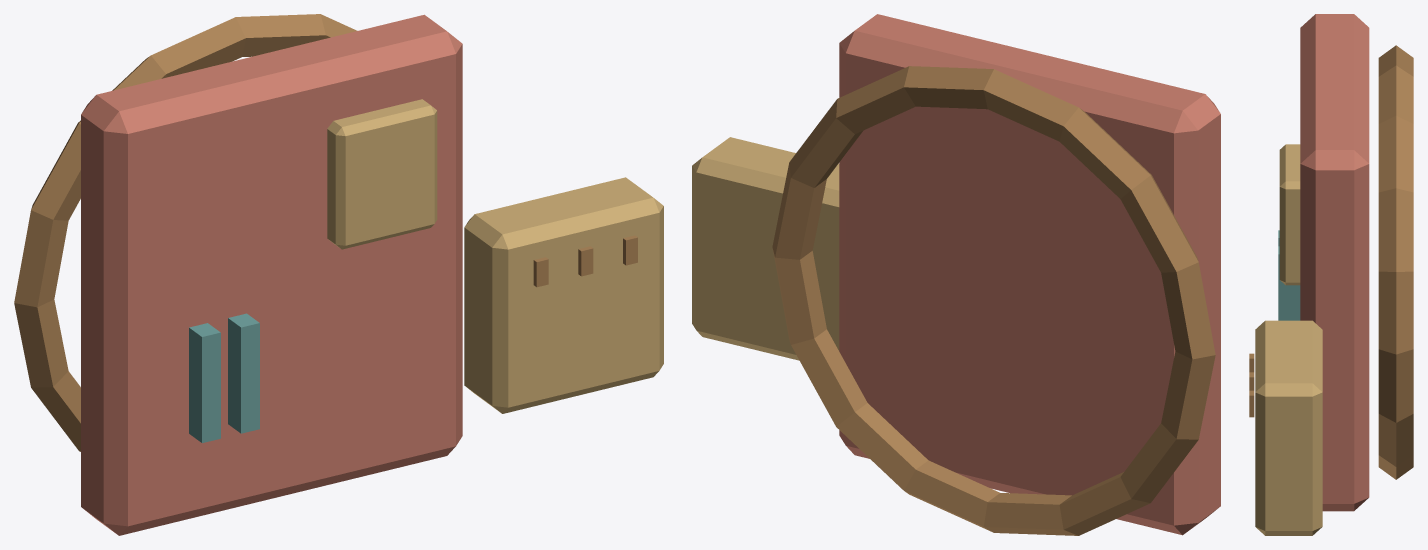
File: longneck_decorator.glb
The picture shows the model from 3 angles, left to right: view 1: azimuth 30°, elevation 25°; view 2: azimuth 150°, elevation 25°; view 3: azimuth 270°, elevation 25°; orthographic projection. The views are drawn at different scales.
Parts seen in each view (by area): view 1: longneck_decorator; view 2: longneck_decorator; view 3: longneck_decorator.
Boxes of the visible parts, x1=… form: longneck_decorator: x1=14, y1=14, x2=663, y2=535; longneck_decorator: x1=692, y1=14, x2=1220, y2=535; longneck_decorator: x1=1249, y1=14, x2=1413, y2=535.
Size of the model in its own units: 0.367 by 0.284 by 0.1073.
